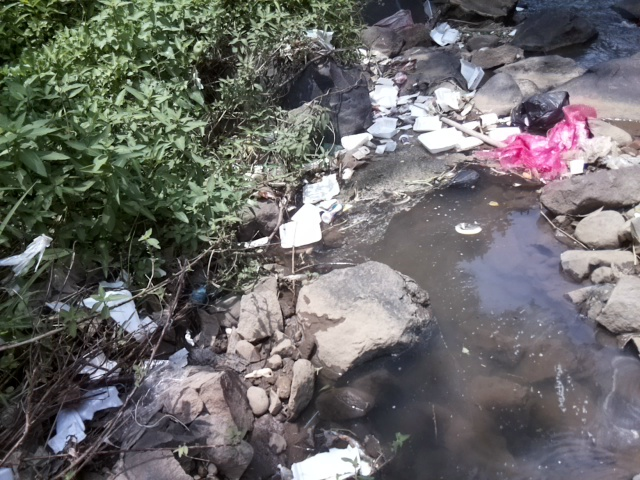Sampah_Botol_Plastik: (320, 202, 346, 224)
Sampah_Plastik: (486, 100, 596, 180), (511, 85, 576, 130)
Sampah_Styrofoam: (288, 440, 365, 480), (275, 203, 329, 252), (414, 126, 484, 158), (302, 170, 342, 206), (368, 74, 400, 113), (366, 114, 402, 141), (410, 104, 444, 132), (458, 57, 484, 93), (337, 129, 371, 154), (433, 86, 463, 114), (430, 22, 458, 48)
